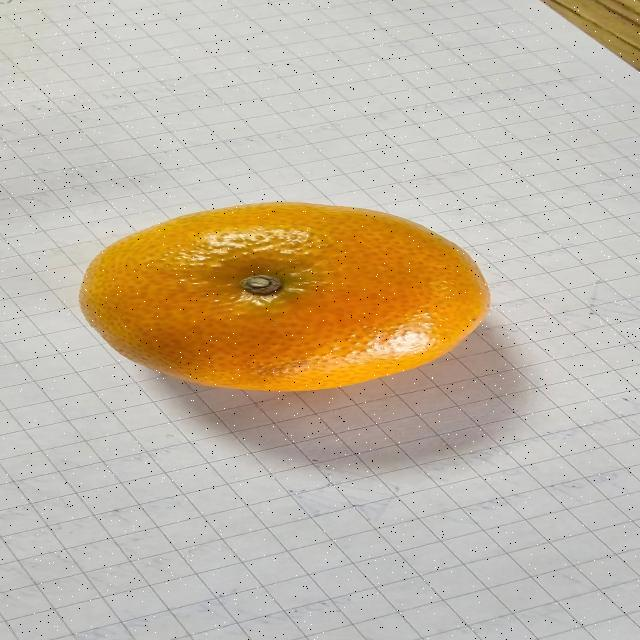Jeruk Mandarin: (60, 199, 514, 401)
